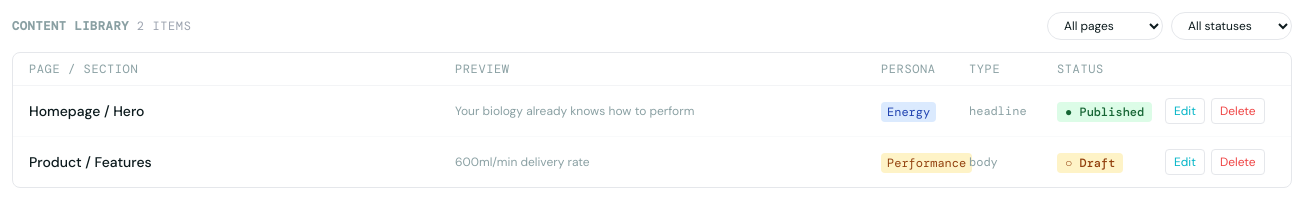
Test case: ContentLibrary › filters items by status
This screenshot has width=1304, height=205.
Select "Published" in the dropdown named "filter by status" at (1232, 26), box [1171,12,1292,40]
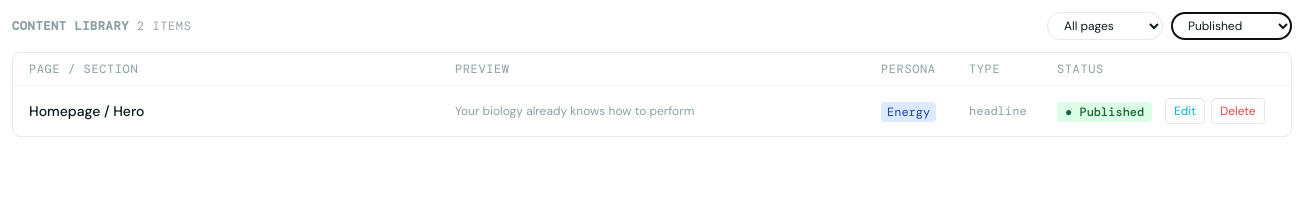
Expected: the text "Homepage / Hero" is shown, [29,102,144,120]
Now the text "Product / Features" is gone
